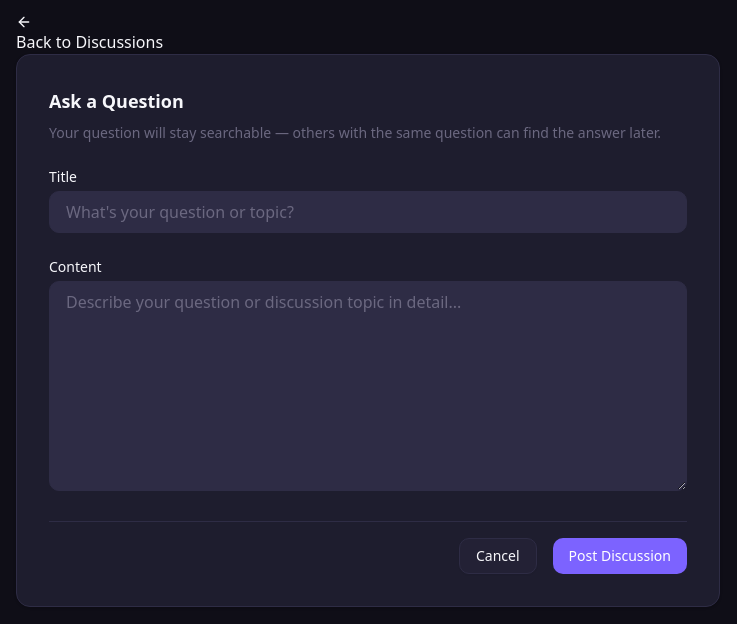
Error handling in form components › shows loading spinner while request is in flight
This screenshot has width=737, height=624.
In the field with placeholder "What's your question or topic?": x=368, y=212 49,191 -> 687,233, type "Test title"
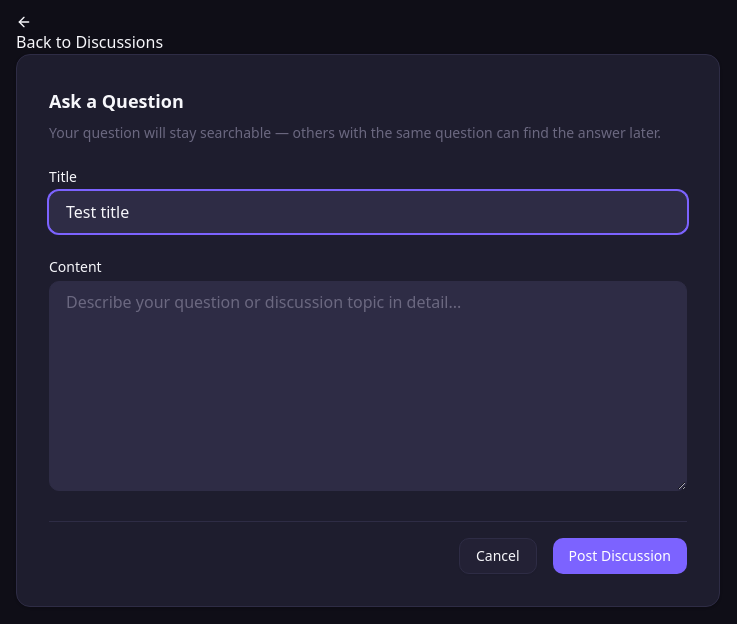
In the text box with placeholder "Describe your question or discussion topic in detail...": x=368, y=386 49,281 -> 687,491, type "Test content"
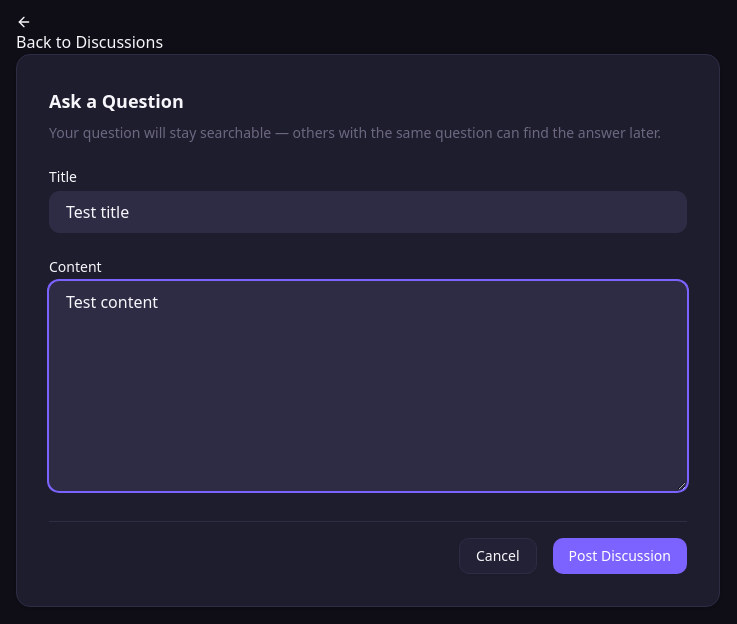
Click the button "Post Discussion": x=620, y=556 553,538 -> 687,574
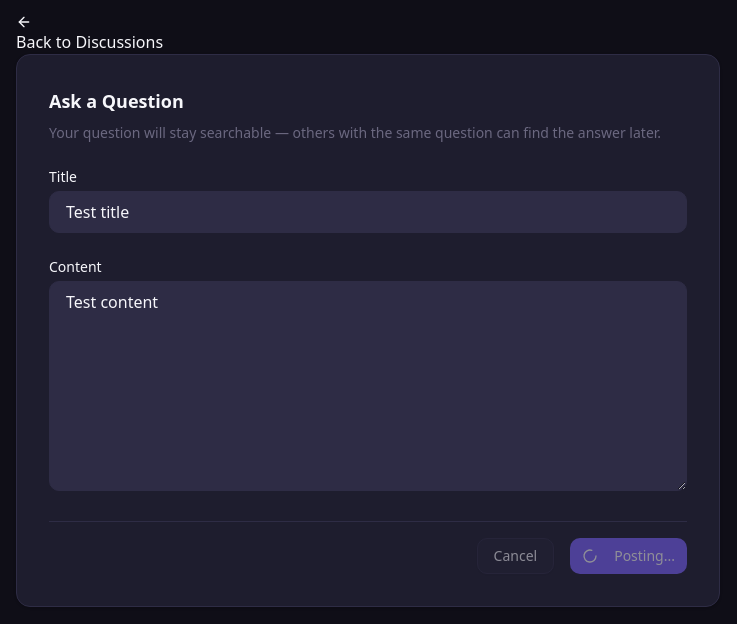
Now the button "Posting..." is disabled, box 570,538 -> 687,574
